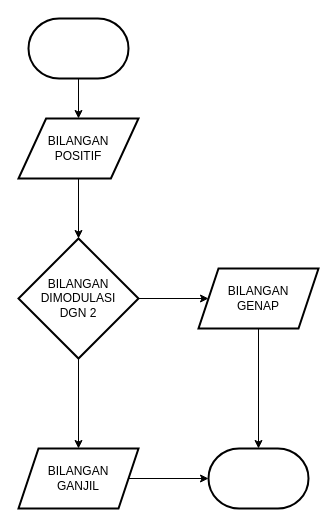
This 336x526 diagram has some shape labels left out. Here are the shapes that lost their labels. From the top down, the centre of each, then its label:
the point at 78,48: START
the point at 258,478: END
